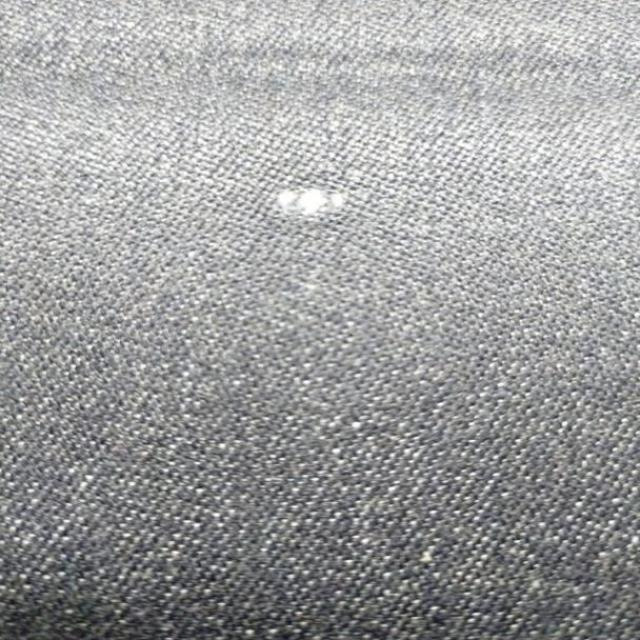Knot: (278, 188, 346, 215)
